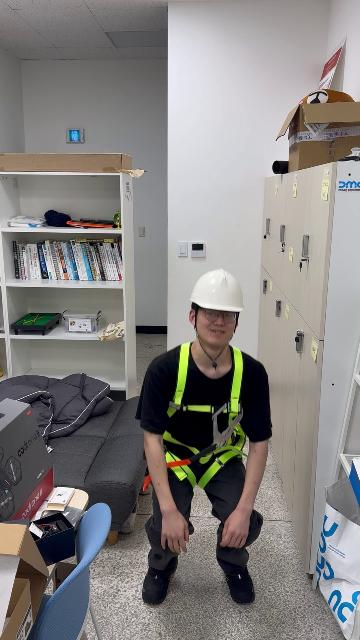helmet_worn: (187, 268, 247, 312)
shoe_worn: (142, 565, 177, 604), (220, 564, 254, 604)
vest_worn: (159, 347, 249, 488)
